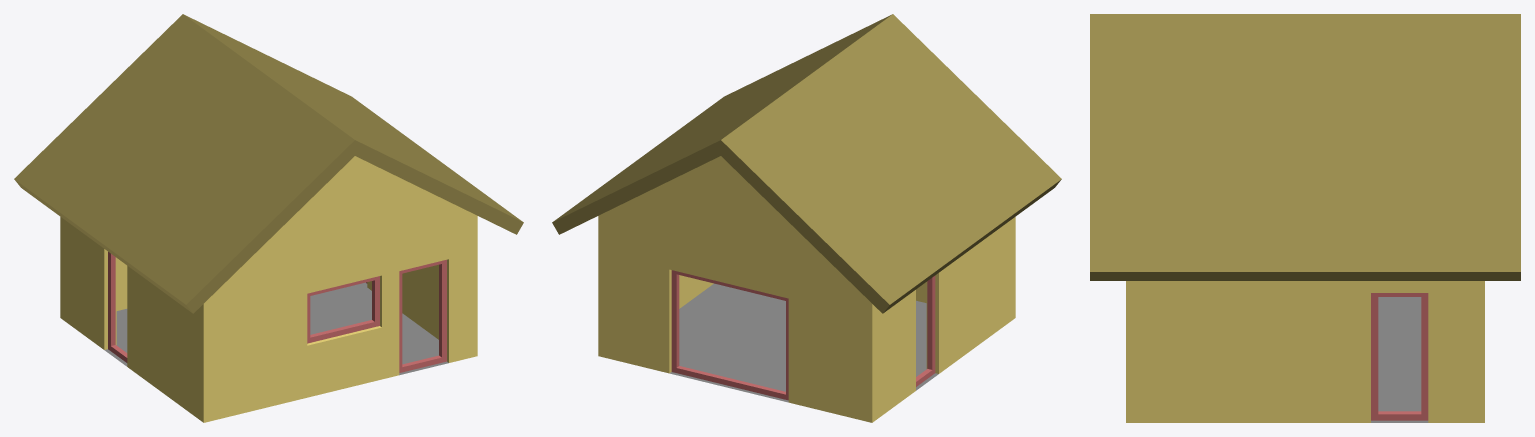
File: result.glb
The picture shows the model from 3 angles, left to right: view 1: azimuth 30°, elevation 25°; view 2: azimuth 150°, elevation 25°; view 3: azimuth 270°, elevation 25°; orthographic projection. The views are drawn at different scales.
Parts seen in each view (by area): view 1: 9b7e119b-74bc-4ef1-99ab-083f10b6ab7d__undefined (×2), f42615a2-e475-459f-b941-99a217c0a8d2__undefined, ae6eedf7-8fdd-404d-85df-bfa547354e80__Plane_6, 0fc70ebe-a6d4-4362-b03f-dd68e9a7a39e__Box, d09c19c5-28d3-4646-a793-8540c8c9700a__Box_3, 4a510310-1239-48b7-8eb9-33e4a02d1fdc__Box_12; view 2: 9b7e119b-74bc-4ef1-99ab-083f10b6ab7d__undefined (×2), f42615a2-e475-459f-b941-99a217c0a8d2__undefined, ae6eedf7-8fdd-404d-85df-bfa547354e80__Plane_6, 9069e946-3293-45f9-8ee5-1037c9af44d3__Box_9, 4a510310-1239-48b7-8eb9-33e4a02d1fdc__Box_12; view 3: 9b7e119b-74bc-4ef1-99ab-083f10b6ab7d__undefined, f42615a2-e475-459f-b941-99a217c0a8d2__undefined, ae6eedf7-8fdd-404d-85df-bfa547354e80__Plane_6, 13539ad9-fdae-451f-8531-7e78ba32e092__Box_15.
Boxes of the visible parts, bbox=[...] form: 9b7e119b-74bc-4ef1-99ab-083f10b6ab7d__undefined (×2): bbox=[14, 14, 523, 313]; f42615a2-e475-459f-b941-99a217c0a8d2__undefined: bbox=[60, 156, 477, 422]; ae6eedf7-8fdd-404d-85df-bfa547354e80__Plane_6: bbox=[104, 282, 448, 375]; 0fc70ebe-a6d4-4362-b03f-dd68e9a7a39e__Box: bbox=[399, 259, 446, 372]; d09c19c5-28d3-4646-a793-8540c8c9700a__Box_3: bbox=[307, 276, 379, 343]; 4a510310-1239-48b7-8eb9-33e4a02d1fdc__Box_12: bbox=[108, 252, 127, 362]; 9b7e119b-74bc-4ef1-99ab-083f10b6ab7d__undefined (×2): bbox=[552, 14, 1061, 313]; f42615a2-e475-459f-b941-99a217c0a8d2__undefined: bbox=[598, 156, 1015, 422]; ae6eedf7-8fdd-404d-85df-bfa547354e80__Plane_6: bbox=[669, 283, 938, 402]; 9069e946-3293-45f9-8ee5-1037c9af44d3__Box_9: bbox=[671, 270, 788, 400]; 4a510310-1239-48b7-8eb9-33e4a02d1fdc__Box_12: bbox=[916, 276, 935, 386]; 9b7e119b-74bc-4ef1-99ab-083f10b6ab7d__undefined: bbox=[1090, 14, 1520, 280]; f42615a2-e475-459f-b941-99a217c0a8d2__undefined: bbox=[1126, 281, 1484, 422]; ae6eedf7-8fdd-404d-85df-bfa547354e80__Plane_6: bbox=[1371, 297, 1428, 422]; 13539ad9-fdae-451f-8531-7e78ba32e092__Box_15: bbox=[1371, 293, 1428, 420].
Size of the model in its own units: 680 by 500 by 600.
